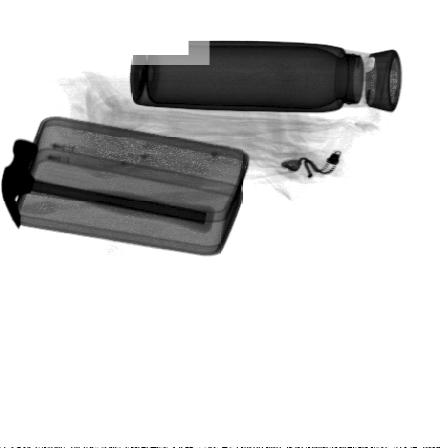Hammer: (1, 138, 215, 235)
